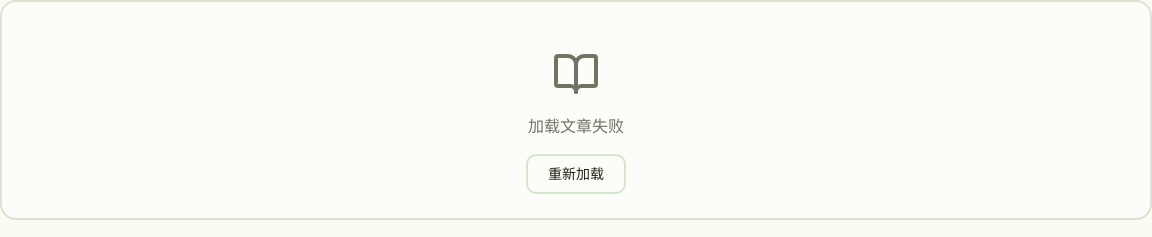
Test: ProfilePostsTab › API 失败时展示错误并支持重试
Expected: the text "加载文章失败" is shown, [528,115,624,137]
Click the button "重新加载" at (576, 174), box [526,154,626,194]
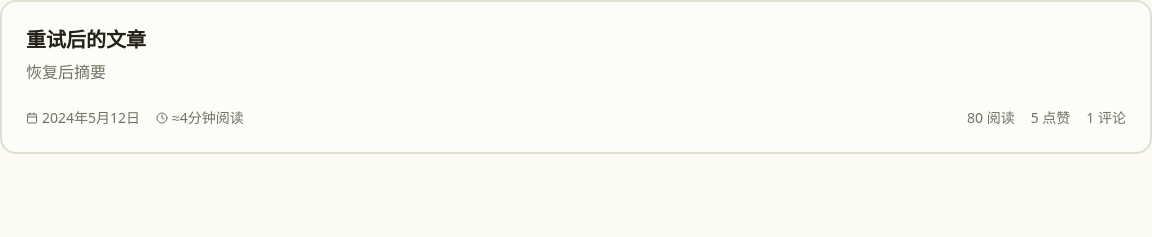
Now the link "重试后的文章" is shown, box [26,26,146,53]
